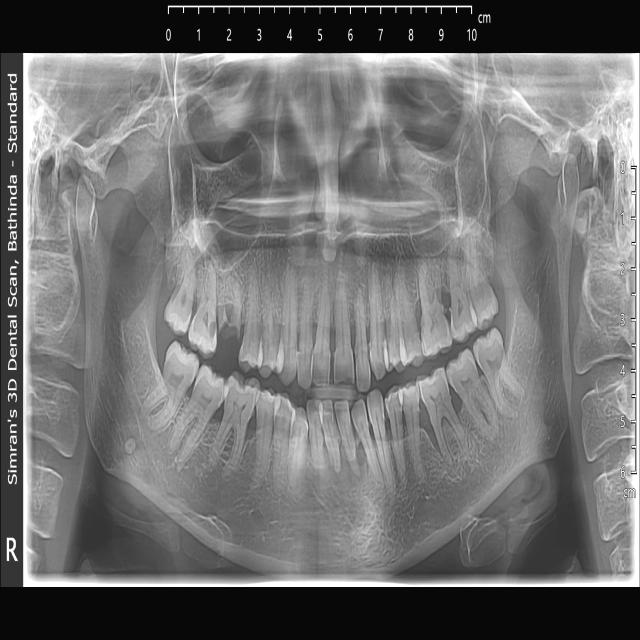Caries: (208, 321, 217, 340)
Mandibular Canal: (414, 294, 551, 512), (116, 321, 249, 540)
Periapical lesion: (206, 246, 220, 263)
Root Piece: (227, 271, 243, 339), (218, 273, 226, 336)
maxillary sinus: (379, 101, 487, 260), (166, 109, 262, 277)
